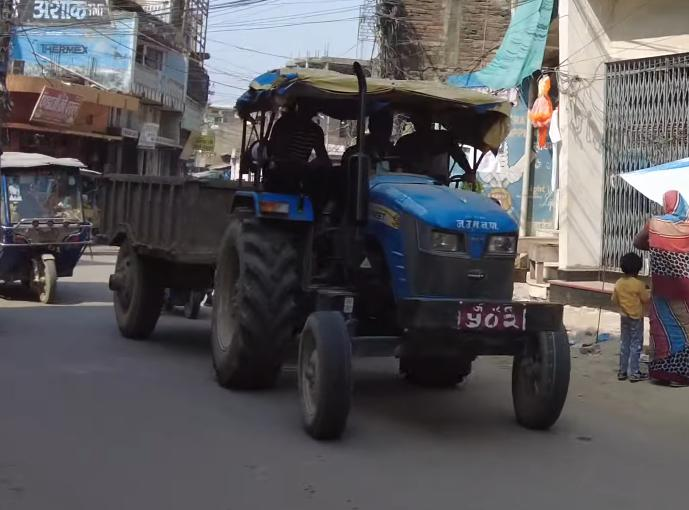e-rickshaw: (0, 145, 95, 307)
tractor: (98, 63, 594, 454)
